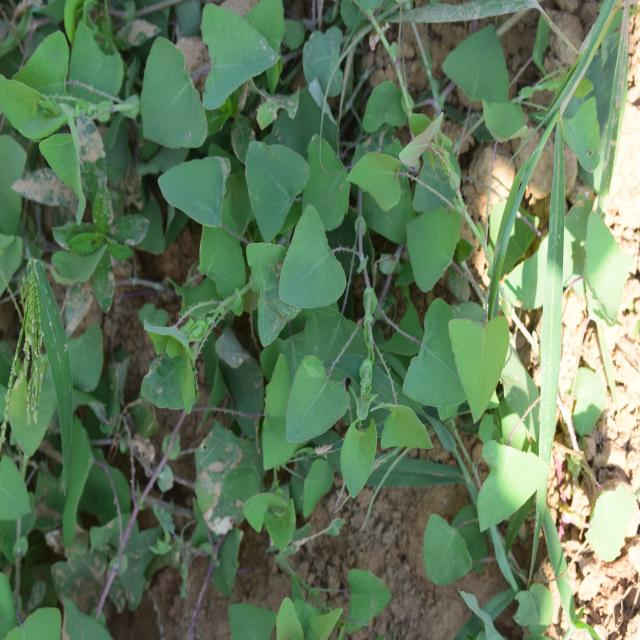Asiatic_Smartweed: (284, 194, 497, 486), (132, 129, 298, 413)
